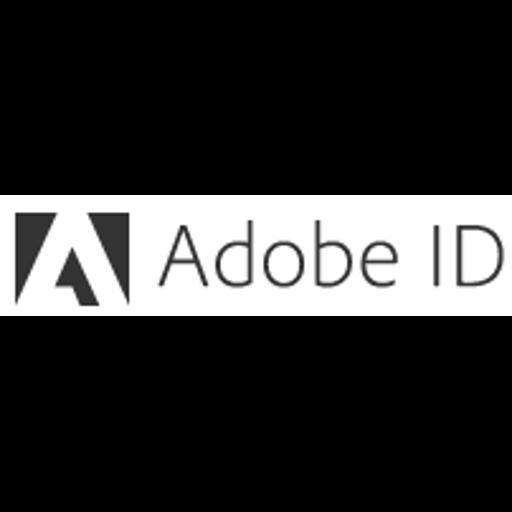Adobe: (0, 195, 512, 316)
